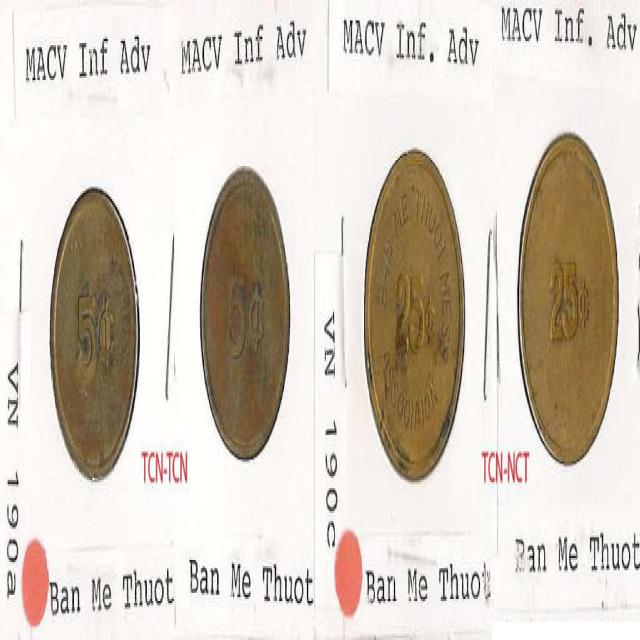Coin: (363, 142, 465, 487), (517, 126, 619, 466), (48, 181, 141, 482), (202, 165, 290, 469)
